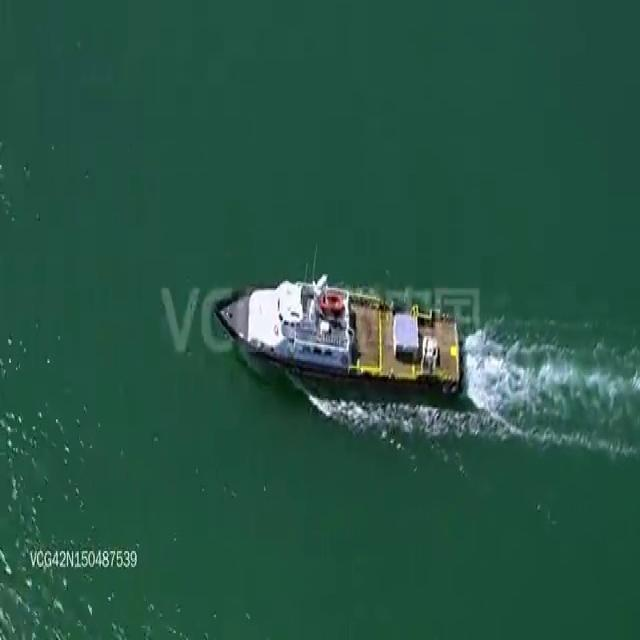houseboat: (216, 275, 461, 388)
